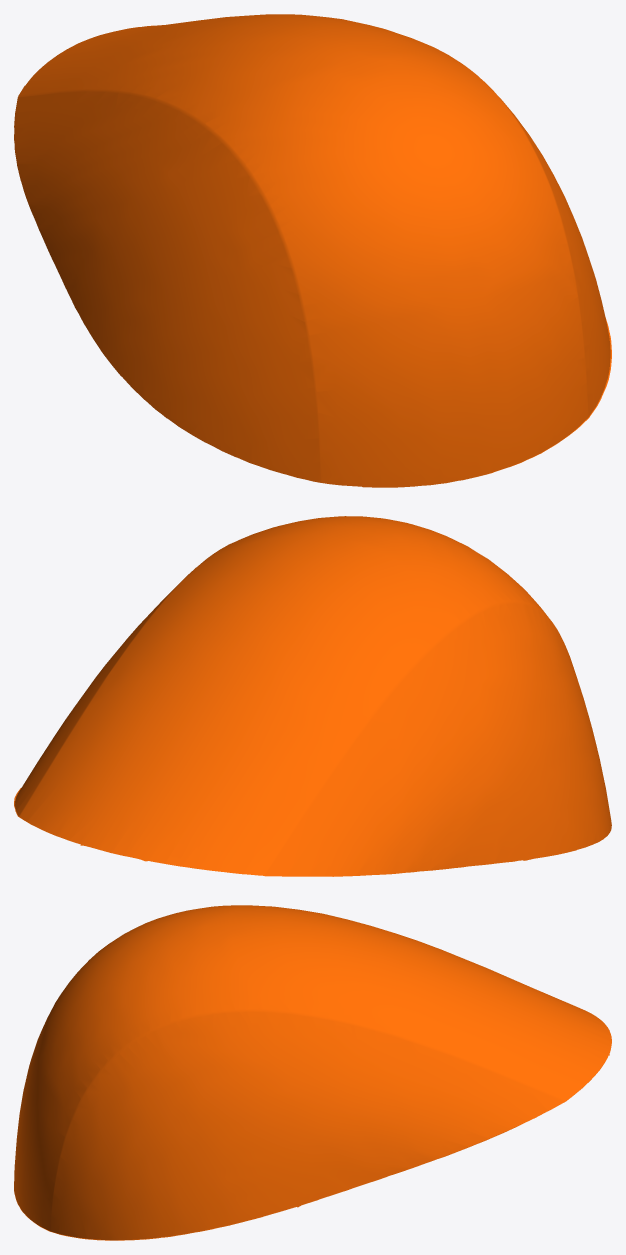
File: link_2_orange.draco.gltf
3 views of the same model, one above another, from view 1: azimuth 30°, elevation 25°; view 2: azimuth 150°, elevation 25°; view 3: azimuth 270°, elevation 25° (orthographic). The views are drawn at different scales.
Visible parts, largest first — view 1: Node; view 2: Node; view 3: Node.
Part boxes in pixels (box(x1,y1,x2,y2)): Node: box(14, 14, 611, 487); Node: box(14, 516, 611, 876); Node: box(14, 905, 611, 1240).
Size of the model in its own units: 0.16 by 0.1074 by 0.2222.
